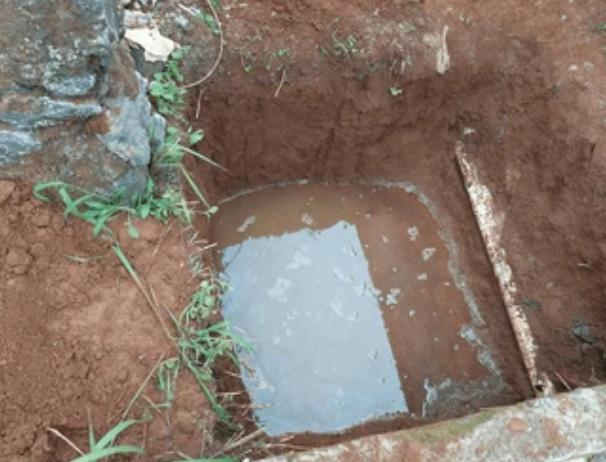water accumulation: (205, 177, 501, 436)
